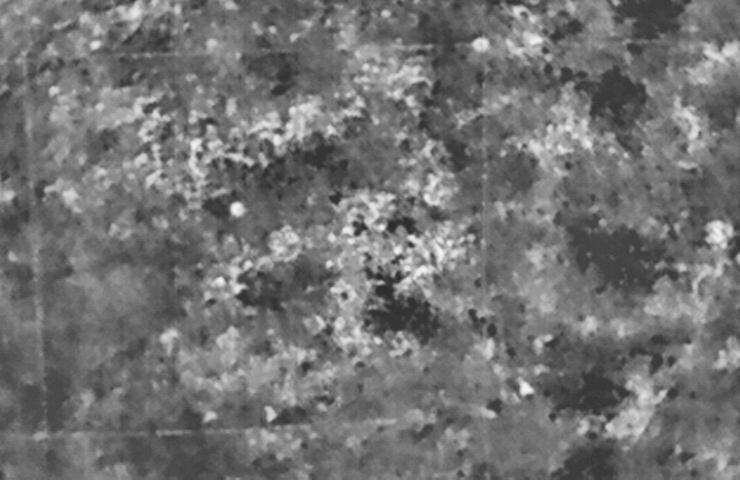landmines: (229, 200, 250, 219)
